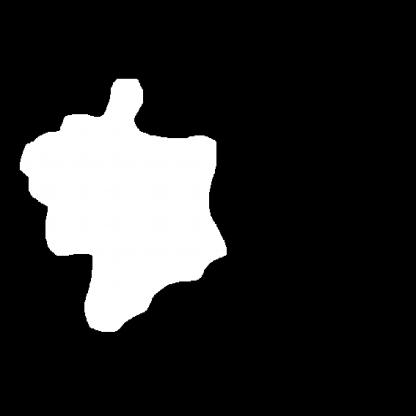malignant: (15, 66, 237, 347)
